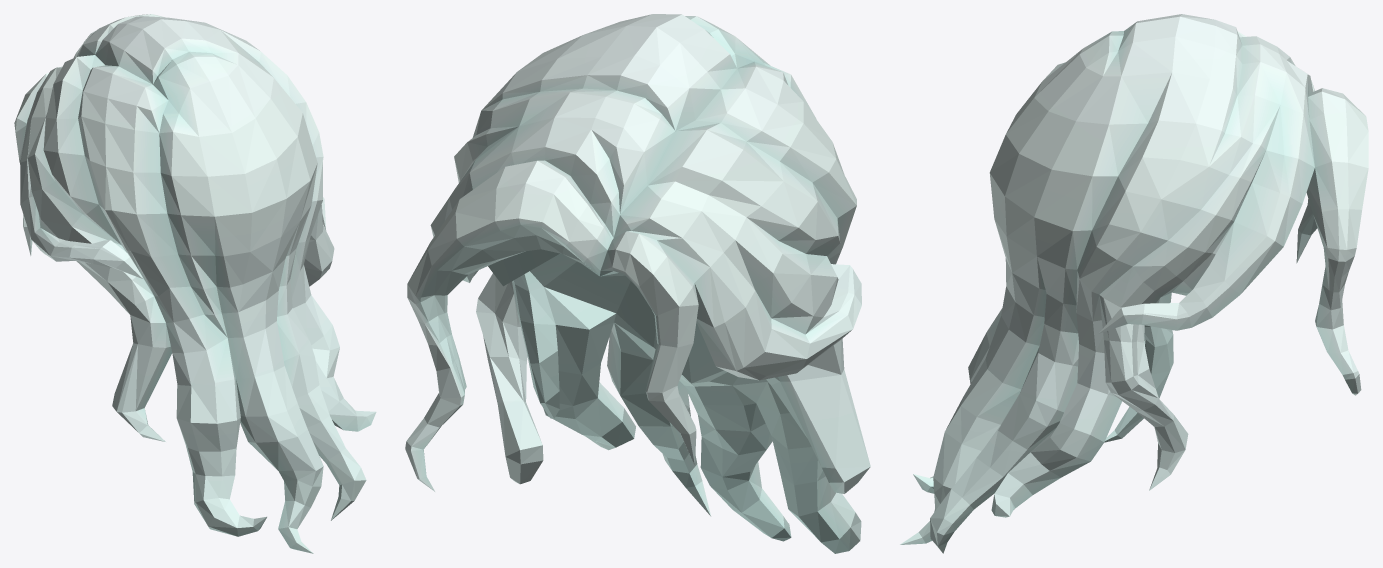
The model's file is CharSkyKid_Hair_AP11LongWavy_01.glb.
The picture shows the model from 3 angles, left to right: view 1: azimuth 30°, elevation 25°; view 2: azimuth 150°, elevation 25°; view 3: azimuth 270°, elevation 25°; orthographic projection. The views are drawn at different scales.
Visible parts, largest first — view 1: CharSkyKid_Hair_AP11LongWavy_01; view 2: CharSkyKid_Hair_AP11LongWavy_01; view 3: CharSkyKid_Hair_AP11LongWavy_01.
Boxes of the visible parts, bbox=[...] form: CharSkyKid_Hair_AP11LongWavy_01: bbox=[14, 14, 376, 553]; CharSkyKid_Hair_AP11LongWavy_01: bbox=[405, 14, 870, 553]; CharSkyKid_Hair_AP11LongWavy_01: bbox=[900, 14, 1368, 553].
Bounding box in the file's own units: 3.1 × 4.89 × 4.04.
1 material, 1 textured.
